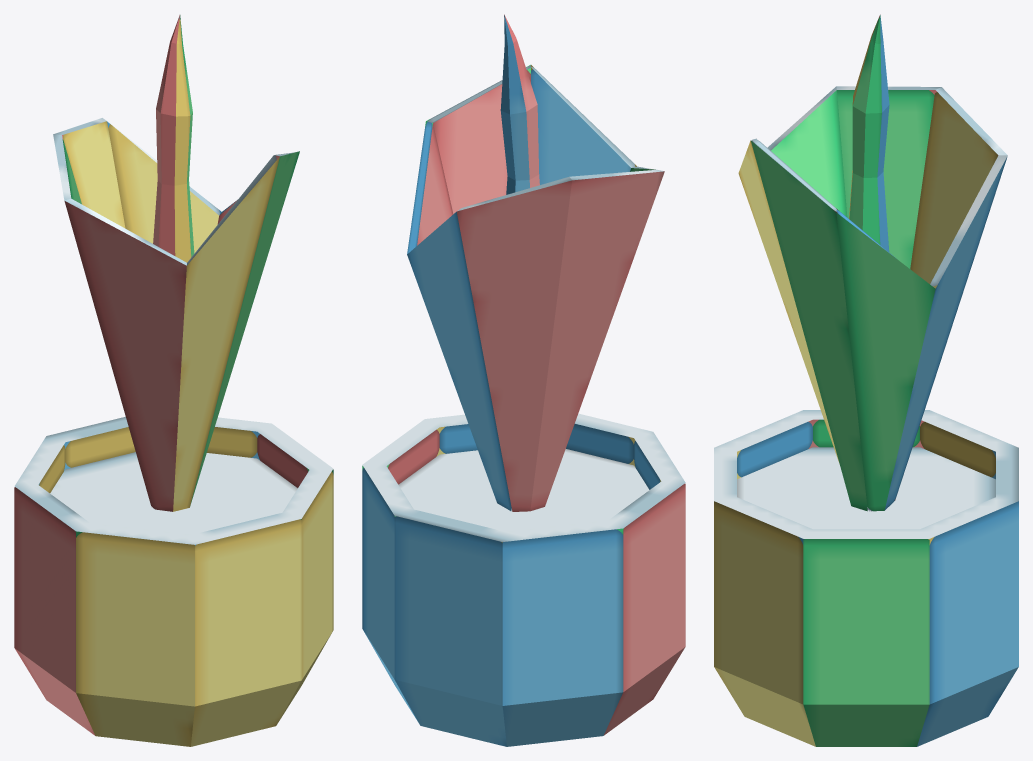
The model's file is potted_plant_1.obj.
3 views of the same model, side by side, from view 1: azimuth 30°, elevation 25°; view 2: azimuth 150°, elevation 25°; view 3: azimuth 270°, elevation 25° (orthographic). The views are drawn at different scales.
Visible parts, largest first — view 1: cylinder, leaf, core; view 2: cylinder, leaf, core; view 3: cylinder, leaf, core.
Part boxes in pixels (x1,y1,x2,y2): cylinder: [14, 417, 333, 746]; leaf: [53, 118, 299, 511]; core: [153, 15, 194, 262]; cylinder: [362, 413, 685, 746]; leaf: [407, 64, 664, 511]; core: [500, 14, 539, 194]; cylinder: [714, 410, 1018, 746]; leaf: [738, 86, 1007, 511]; core: [849, 14, 889, 251].
Size of the model in its own units: 0.625 by 1.56 by 0.625.
Materials: 1 (1 with a texture image).
